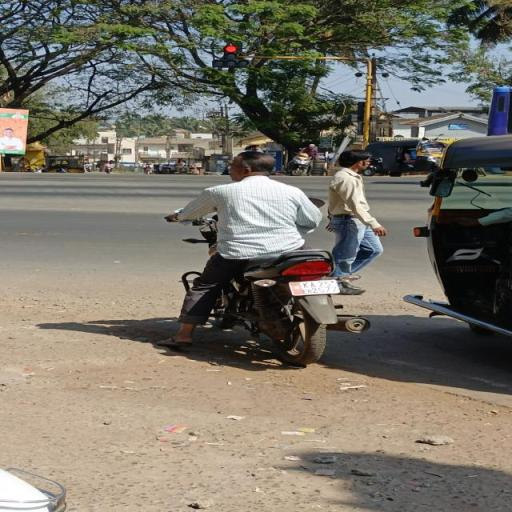bike: (158, 148, 374, 373)
numberplate: (288, 279, 342, 297)
withouthelmet: (231, 152, 272, 178)
